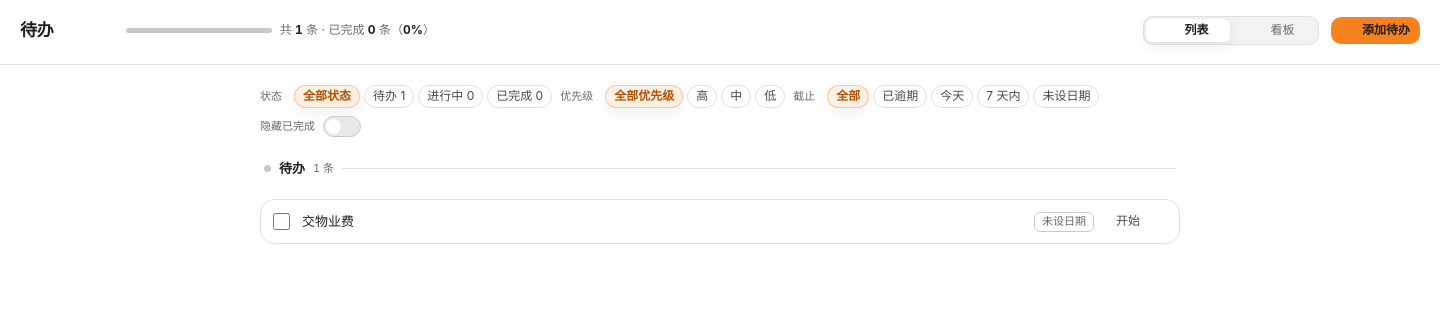
Test: 筛选（纯本地） › 筛完没有结果时给空状态与出口（出口开添加窗口，不再跳录入框）
Click the button "已完成 0" at {"x": 520, "y": 96}, box [487, 85, 552, 108]
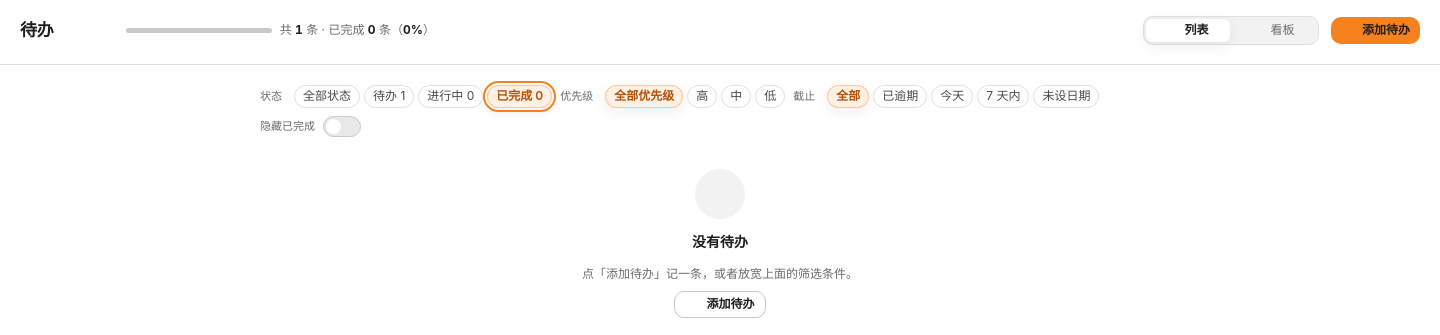
Expected: the text "没有待办" is shown, [692, 231, 748, 253]
Expected: the text "点「添加待办」记一条，或者放宽上面的筛选条件。" is shown, [582, 265, 858, 283]
Expected: the button "添加待办" below "点「添加待办」记一条，或者放宽上面的筛选条件。" is shown, [674, 291, 766, 318]
